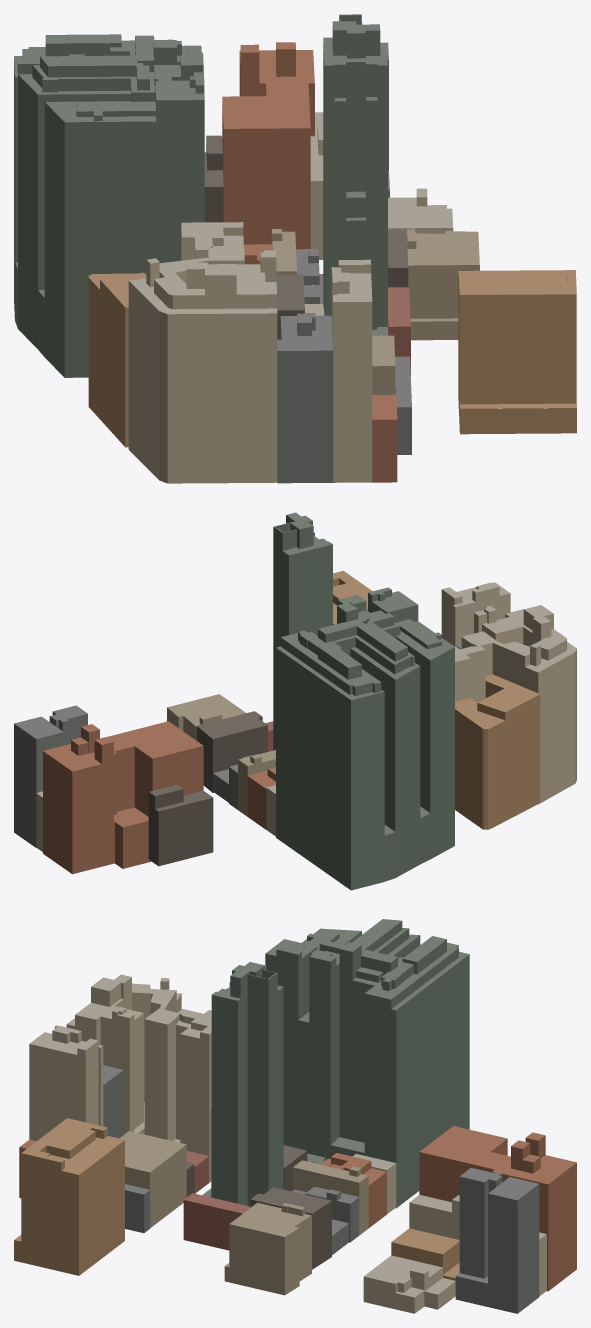
Rendered from tile-4_-11.glb.
3 views of the same model, one above another, from view 1: azimuth 30°, elevation 25°; view 2: azimuth 150°, elevation 25°; view 3: azimuth 270°, elevation 25° (orthographic). The views are drawn at different scales.
Parts seen in each view (by area): view 1: wall, roof; view 2: wall, roof; view 3: wall, roof.
Boxes of the visible parts, box(x1,y1,x2,y2) form: wall: box(14, 15, 576, 483); roof: box(14, 14, 576, 419); wall: box(14, 515, 576, 890); roof: box(14, 512, 576, 835); wall: box(14, 921, 576, 1313); roof: box(14, 919, 576, 1297).
Size of the model in its own units: 178 by 118 by 226.
